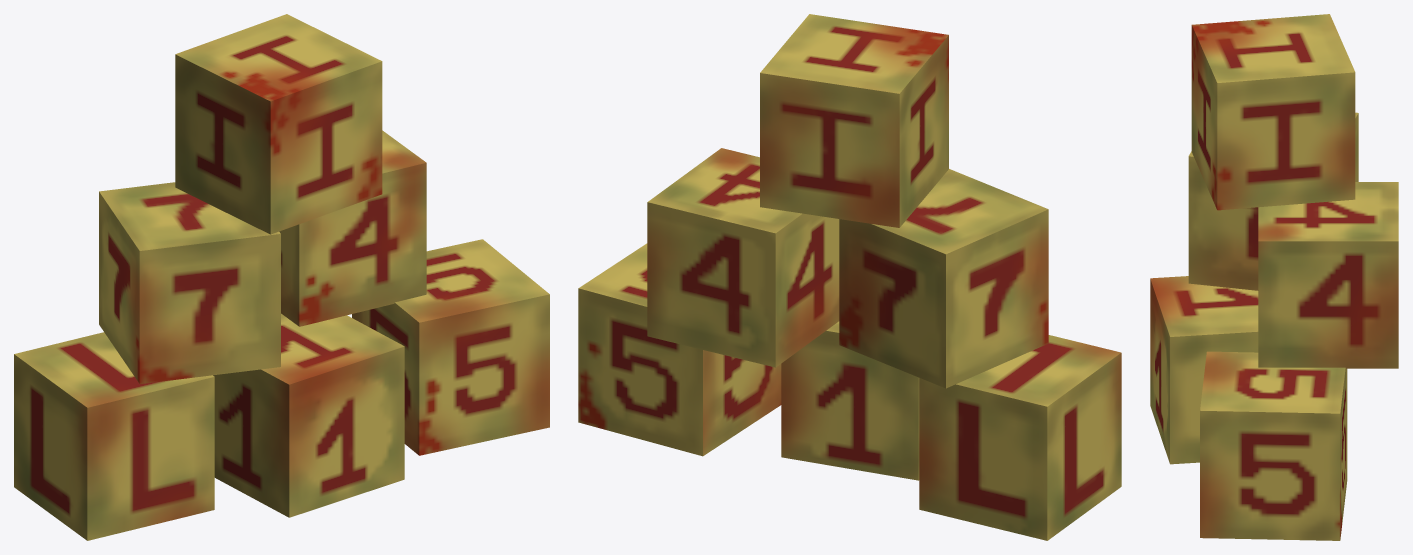
File: Prop_CubePyramid00.glb
3 renders of one model, left to right at view 1: azimuth 30°, elevation 25°; view 2: azimuth 150°, elevation 25°; view 3: azimuth 270°, elevation 25°, orthographic. The views are drawn at different scales.
Visible parts, largest first — view 1: CubeTop, CubeBottomL, CubeMiddleL, CubeBottomC, CubeBottomR, CubeMiddleR; view 2: CubeMiddleL, CubeTop, CubeBottomL, CubeMiddleR, CubeBottomR, CubeBottomC; view 3: CubeTop, CubeBottomR, CubeMiddleR, CubeBottomC, CubeMiddleL.
Boxes of the visible parts, <box> form: CubeTop: <box>175,14,382,234</box>; CubeBottomL: <box>14,332,214,540</box>; CubeMiddleL: <box>99,182,280,383</box>; CubeBottomC: <box>213,313,404,517</box>; CubeBottomR: <box>352,239,549,455</box>; CubeMiddleR: <box>279,130,426,326</box>; CubeMiddleL: <box>839,169,1048,388</box>; CubeTop: <box>760,14,948,227</box>; CubeBottomL: <box>919,335,1121,540</box>; CubeMiddleR: <box>647,148,839,367</box>; CubeBottomR: <box>578,243,781,456</box>; CubeBottomC: <box>781,321,919,480</box>; CubeTop: <box>1191,14,1355,210</box>; CubeBottomR: <box>1200,351,1347,540</box>; CubeMiddleR: <box>1258,182,1398,368</box>; CubeBottomC: <box>1150,276,1258,464</box>; CubeMiddleL: <box>1188,112,1358,290</box>.
Bounding box in the file's own units: 1.1 × 0.9029 × 0.5308.
Materials: 1 (1 with a texture image).
